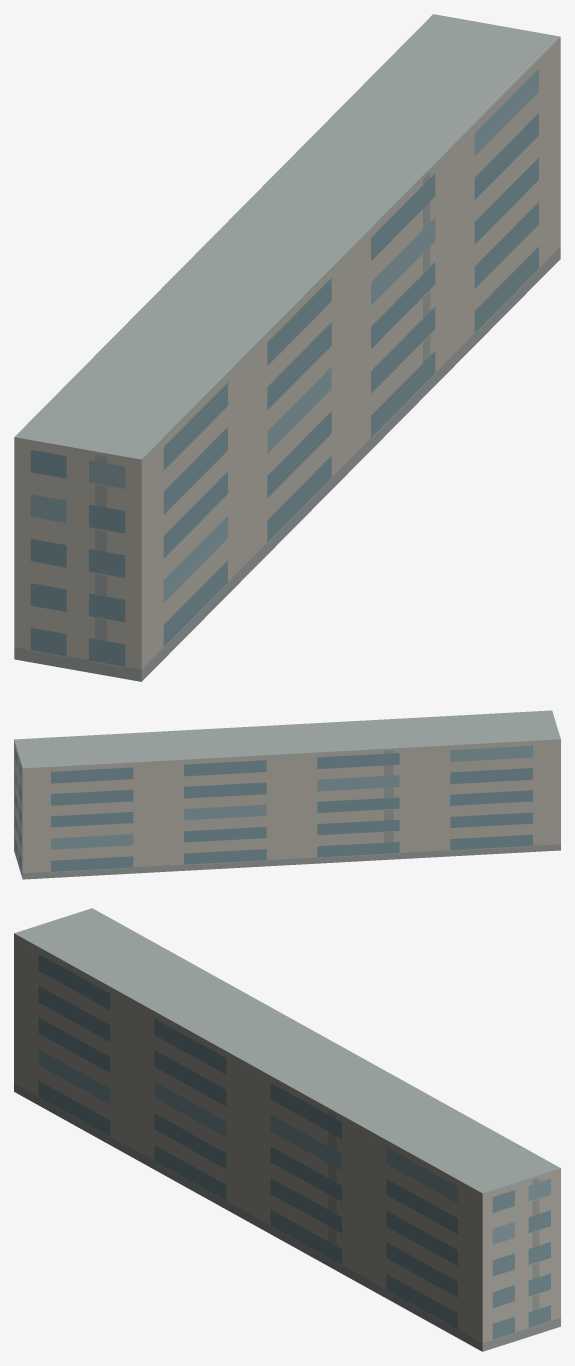
Rendered from residential-6d879e19-20e9-4eaf-89f6-f7c0ff284c92.glb.
3 renders of one model, top to bottom at view 1: azimuth 30°, elevation 25°; view 2: azimuth 150°, elevation 25°; view 3: azimuth 270°, elevation 25°, orthographic. The views are drawn at different scales.
Visible parts, largest first — view 1: residential-6d879e19-20e9-4eaf-89f6-f7c0ff284c92.tmp; view 2: residential-6d879e19-20e9-4eaf-89f6-f7c0ff284c92.tmp; view 3: residential-6d879e19-20e9-4eaf-89f6-f7c0ff284c92.tmp.
Part boxes in pixels (left/top/right/bottom): residential-6d879e19-20e9-4eaf-89f6-f7c0ff284c92.tmp: left=14, top=14, right=560, bottom=681; residential-6d879e19-20e9-4eaf-89f6-f7c0ff284c92.tmp: left=14, top=710, right=560, bottom=879; residential-6d879e19-20e9-4eaf-89f6-f7c0ff284c92.tmp: left=14, top=908, right=560, bottom=1351.
Bounding box in the file's own units: 58.88 × 15.25 × 47.71.
